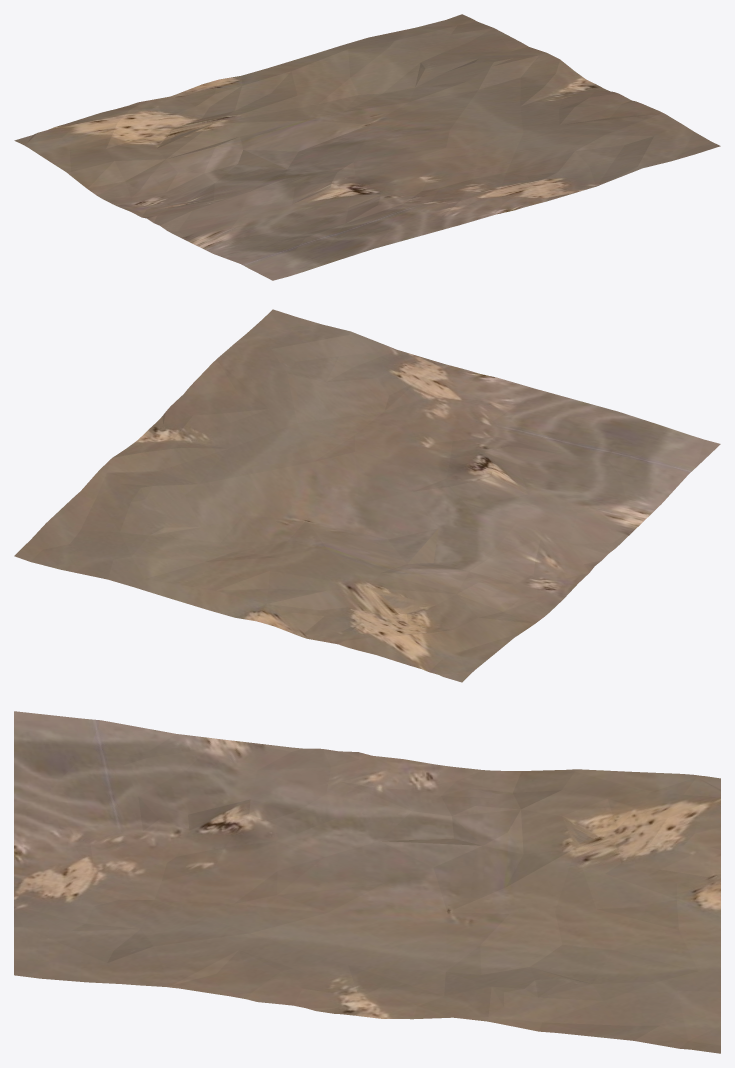
The picture shows the model from 3 angles, top to bottom: view 1: azimuth 30°, elevation 25°; view 2: azimuth 150°, elevation 25°; view 3: azimuth 270°, elevation 25°; orthographic projection. The views are drawn at different scales.
Size of the model in its own units: 2.09 by 0.3322 by 2.09.
Materials: 3 (3 with a texture image).
